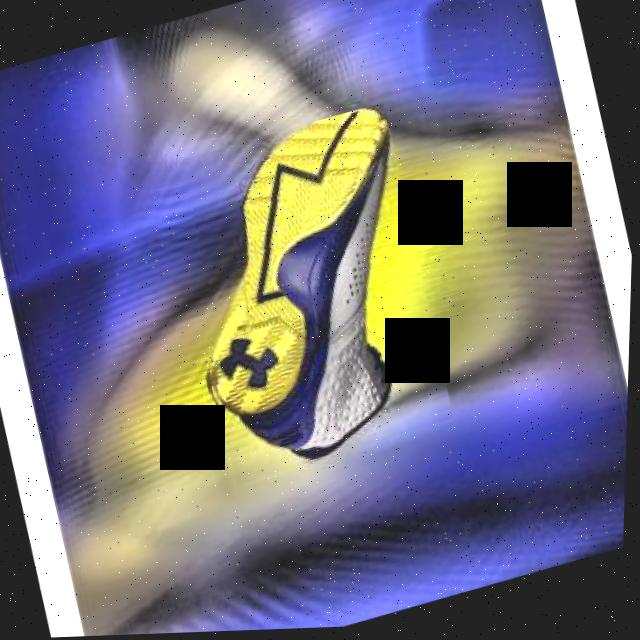shoe: (152, 102, 465, 491)
